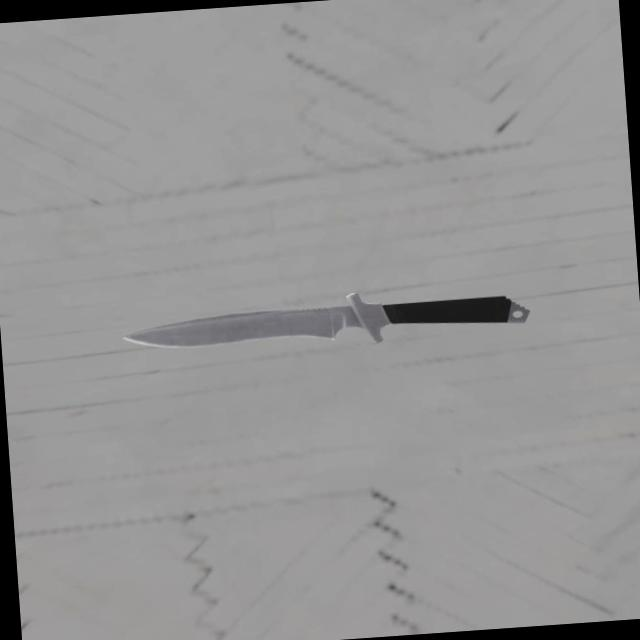knife: (380, 293, 526, 331)
